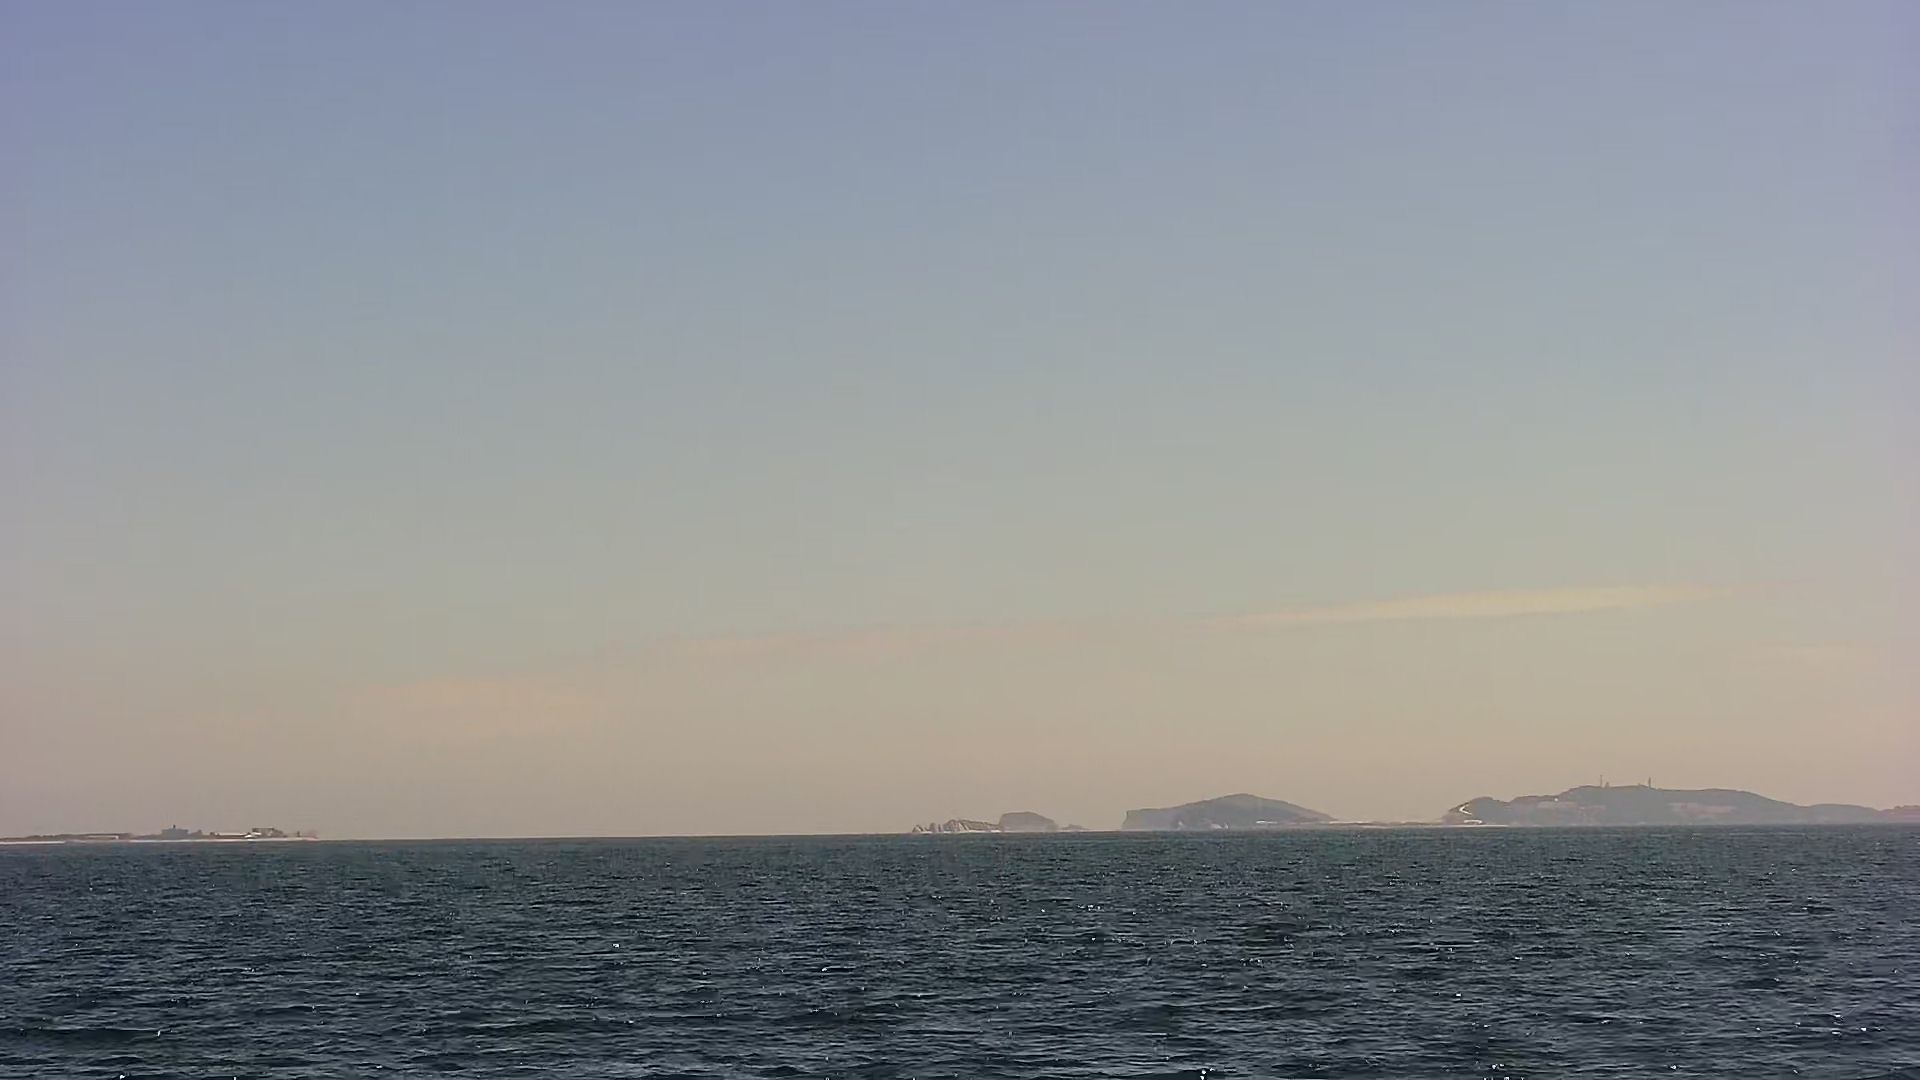rock: (1435, 778, 1917, 825), (1120, 789, 1346, 827), (909, 802, 1087, 845)
